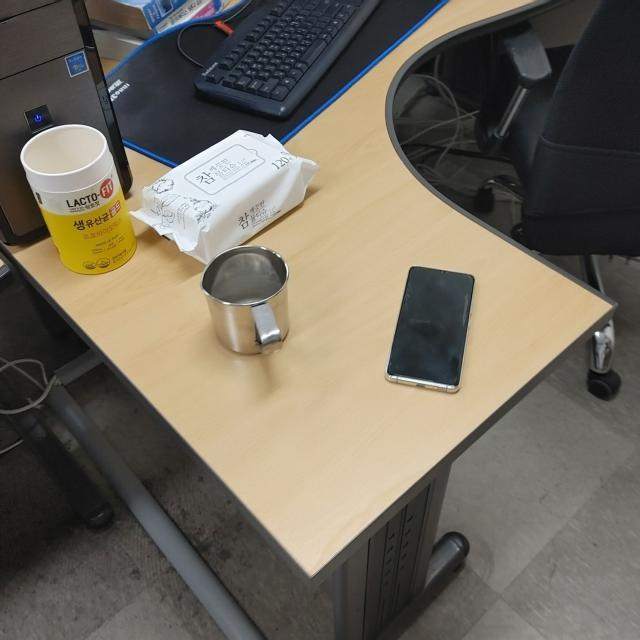cup: (203, 245, 292, 359)
phone: (383, 263, 475, 394)
